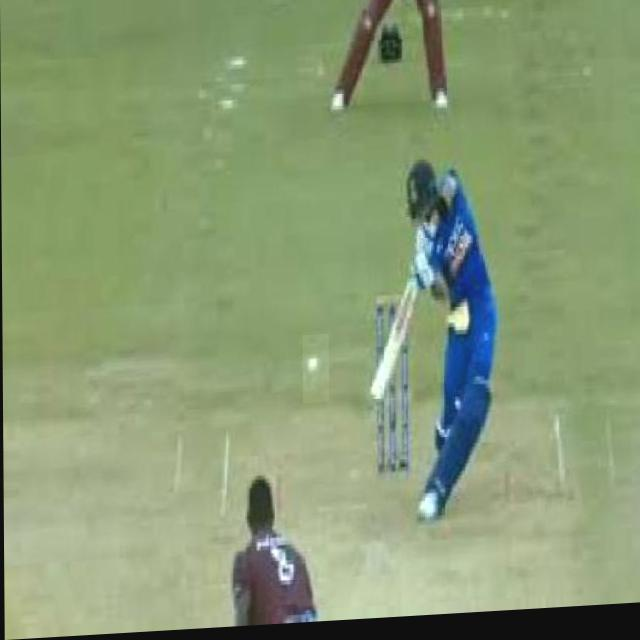-: (302, 338, 328, 407)
